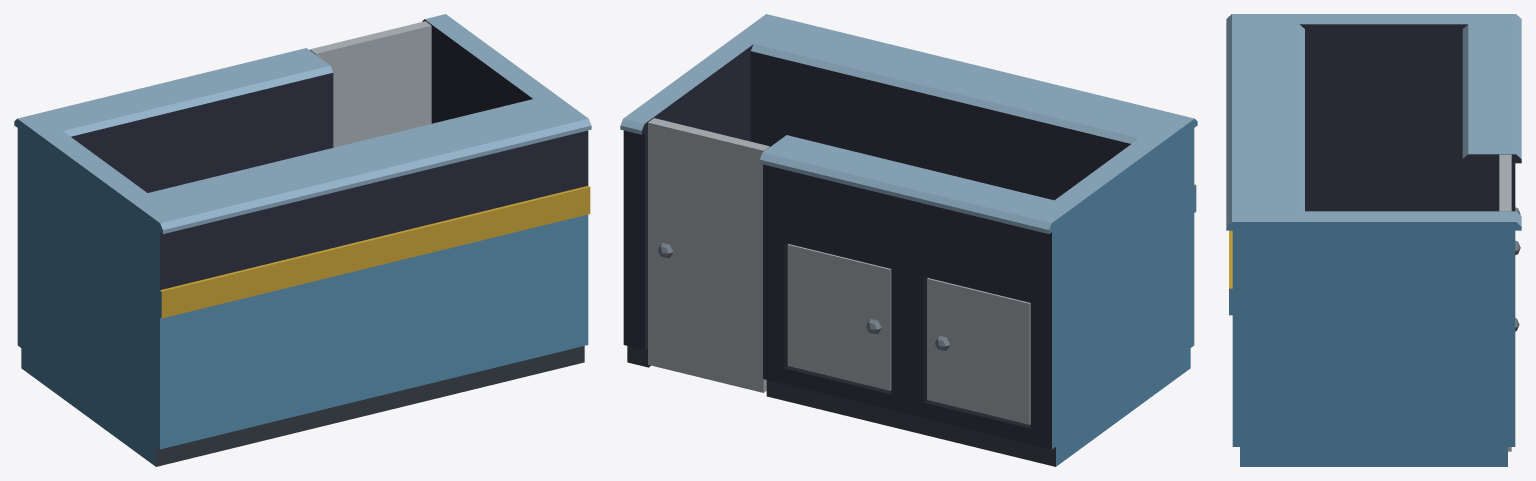
Rendered from reception-desk-3d6913.glb.
3 renders of one model, left to right at view 1: azimuth 30°, elevation 25°; view 2: azimuth 150°, elevation 25°; view 3: azimuth 270°, elevation 25°, orthographic.
Visible parts, largest first — view 1: desk, gate; view 2: desk, gate, door-r, door-l; view 3: desk, gate.
Boxes of the visible parts, x1=… form: desk: x1=14, y1=14, x2=591, y2=466; gate: x1=309, y1=21, x2=431, y2=147; desk: x1=620, y1=14, x2=1197, y2=466; gate: x1=648, y1=118, x2=769, y2=392; door-r: x1=787, y1=244, x2=891, y2=390; door-l: x1=927, y1=278, x2=1030, y2=424; desk: x1=1226, y1=14, x2=1521, y2=466; gate: x1=1499, y1=154, x2=1519, y2=451.
Size of the model in its own units: 2 by 1.1 by 1.2.
